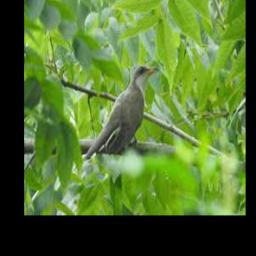Cuckoo: (85, 65, 159, 160)
